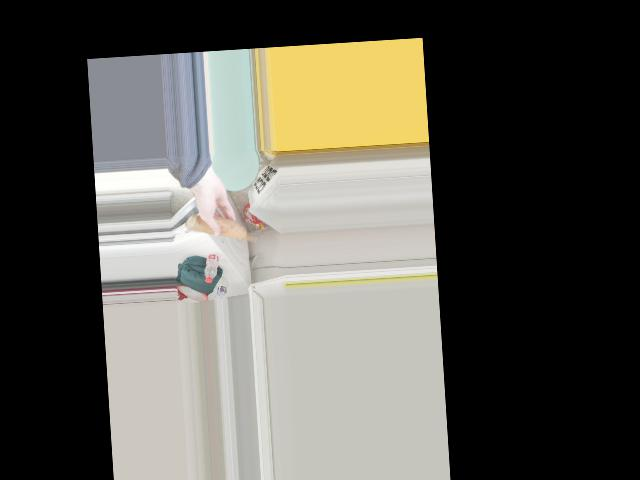sweet_potato: (189, 209, 254, 248)
